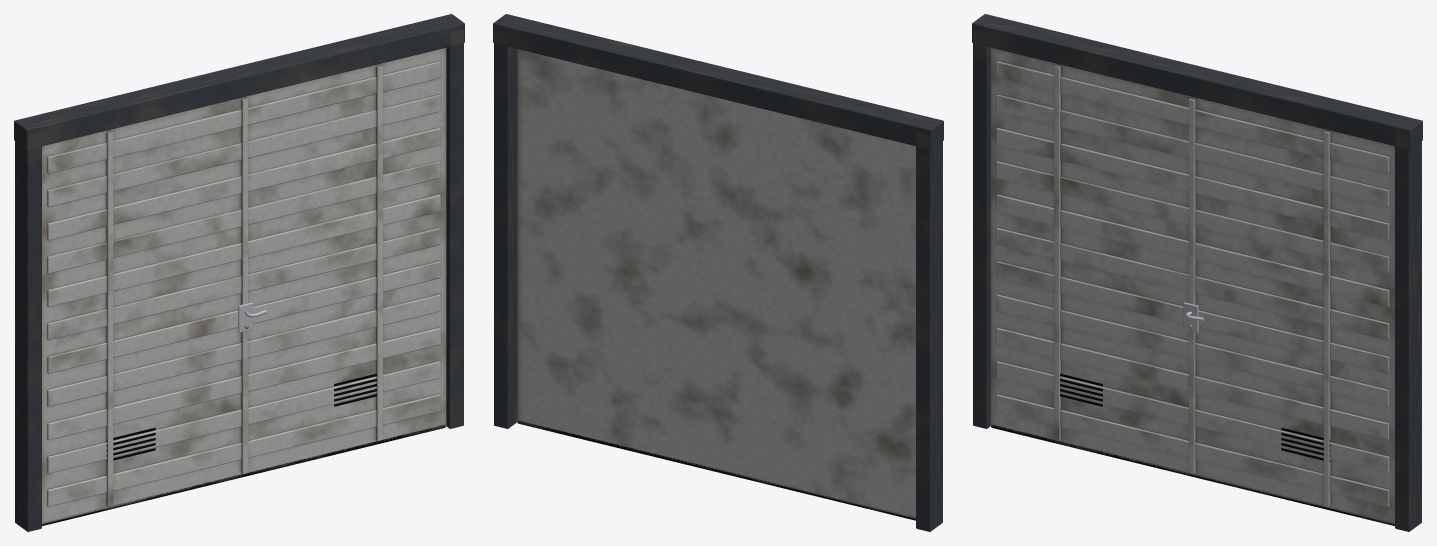
Rendered from ul_brama.glb.
The picture shows the model from 3 angles, left to right: view 1: azimuth 30°, elevation 25°; view 2: azimuth 150°, elevation 25°; view 3: azimuth 330°, elevation 25°; orthographic projection.
Visible parts, largest first — view 1: TintPlat, Rama, Okucia; view 2: TintPlat, Rama; view 3: TintPlat, Rama, Okucia.
Boxes of the visible parts, x1,y1,x2,y2 form: TintPlat: [42, 48, 446, 524]; Rama: [14, 14, 464, 531]; Okucia: [106, 302, 376, 461]; TintPlat: [517, 49, 915, 518]; Rama: [493, 14, 943, 531]; TintPlat: [990, 48, 1394, 524]; Rama: [972, 14, 1422, 531]; Okucia: [1060, 302, 1330, 461].
Bounding box in the file's own units: 2.7 × 2.37 × 0.2023.
5 materials, 2 textured.
